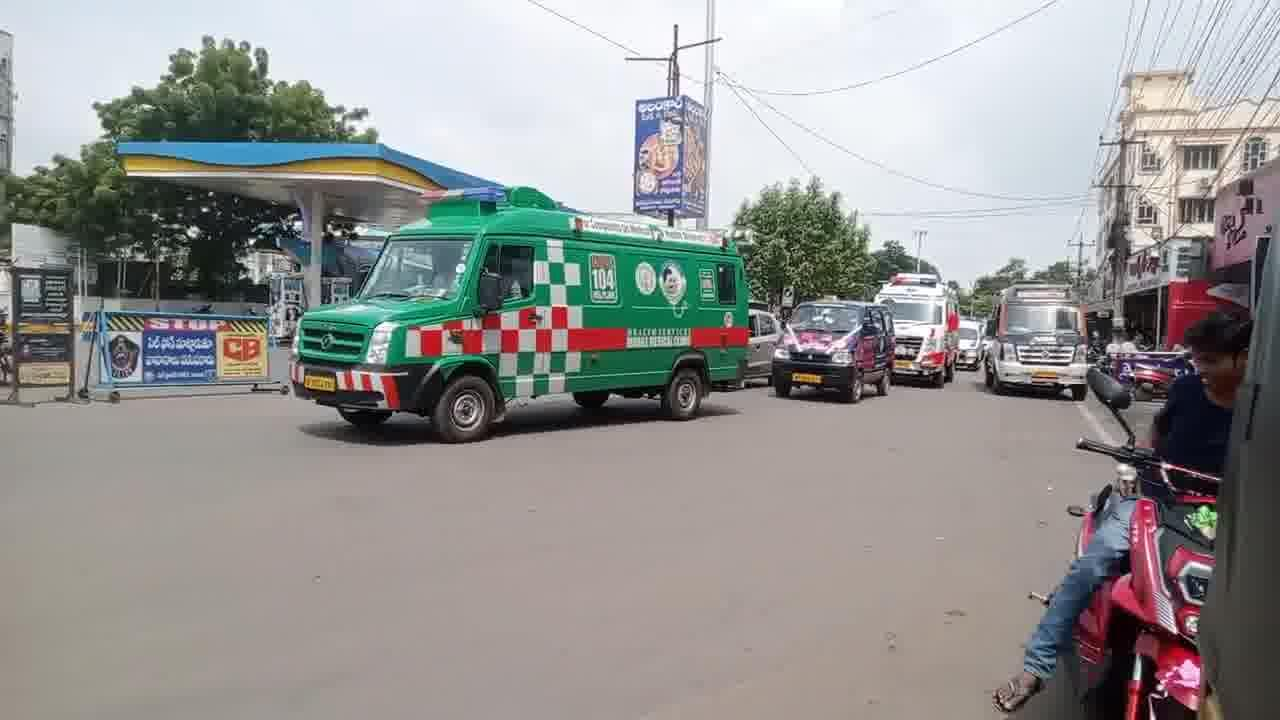AMBULANCE: (286, 188, 760, 461), (788, 281, 879, 415), (996, 276, 1095, 398), (871, 273, 965, 400)
